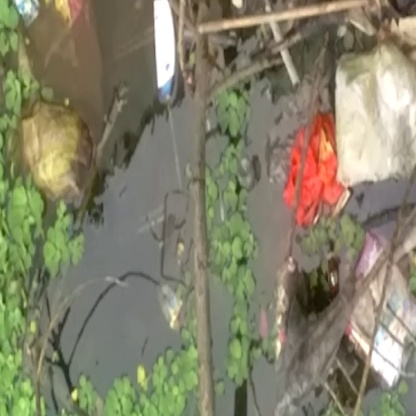plastic-bag: (281, 117, 354, 219)
